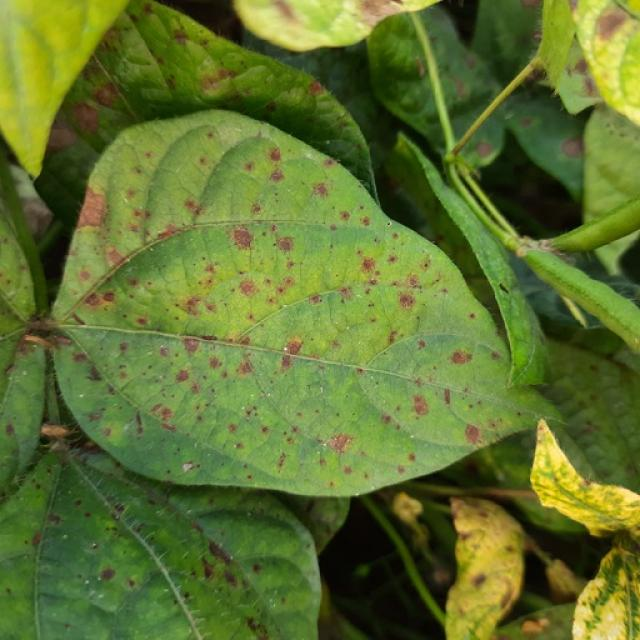Anthracnose: (221, 222, 265, 259), (76, 187, 107, 229), (595, 8, 628, 39), (70, 102, 101, 135), (601, 114, 634, 139), (359, 0, 397, 21), (206, 540, 232, 566), (94, 85, 118, 108), (327, 433, 354, 453), (273, 1, 298, 22), (561, 137, 583, 158), (526, 66, 547, 85), (411, 394, 429, 416), (247, 618, 266, 638), (500, 585, 515, 610), (475, 140, 494, 159), (464, 424, 481, 445), (449, 349, 471, 365), (283, 339, 302, 357), (238, 279, 257, 297), (182, 337, 201, 354), (275, 236, 293, 253), (360, 256, 377, 274), (397, 292, 415, 309), (84, 366, 103, 382), (237, 359, 254, 376), (453, 78, 467, 97), (313, 182, 329, 198), (463, 53, 478, 70), (308, 80, 324, 95), (472, 572, 488, 587), (157, 228, 176, 240), (99, 567, 115, 581), (175, 369, 190, 383), (223, 569, 236, 585), (70, 312, 86, 325), (270, 168, 284, 182), (276, 453, 287, 470), (536, 419, 547, 436), (135, 411, 143, 434), (269, 148, 282, 162), (197, 334, 219, 342), (78, 269, 91, 282), (31, 532, 42, 547), (518, 117, 533, 128), (498, 282, 510, 295), (443, 389, 452, 405), (102, 291, 115, 302), (182, 462, 194, 473), (360, 216, 371, 227), (339, 211, 350, 221), (126, 578, 136, 589), (261, 426, 270, 436), (407, 453, 416, 463), (343, 466, 353, 475), (74, 499, 82, 507), (90, 542, 98, 550), (236, 442, 243, 449), (84, 512, 91, 518), (386, 221, 392, 226)
Blackgram: (54, 110, 552, 495)
